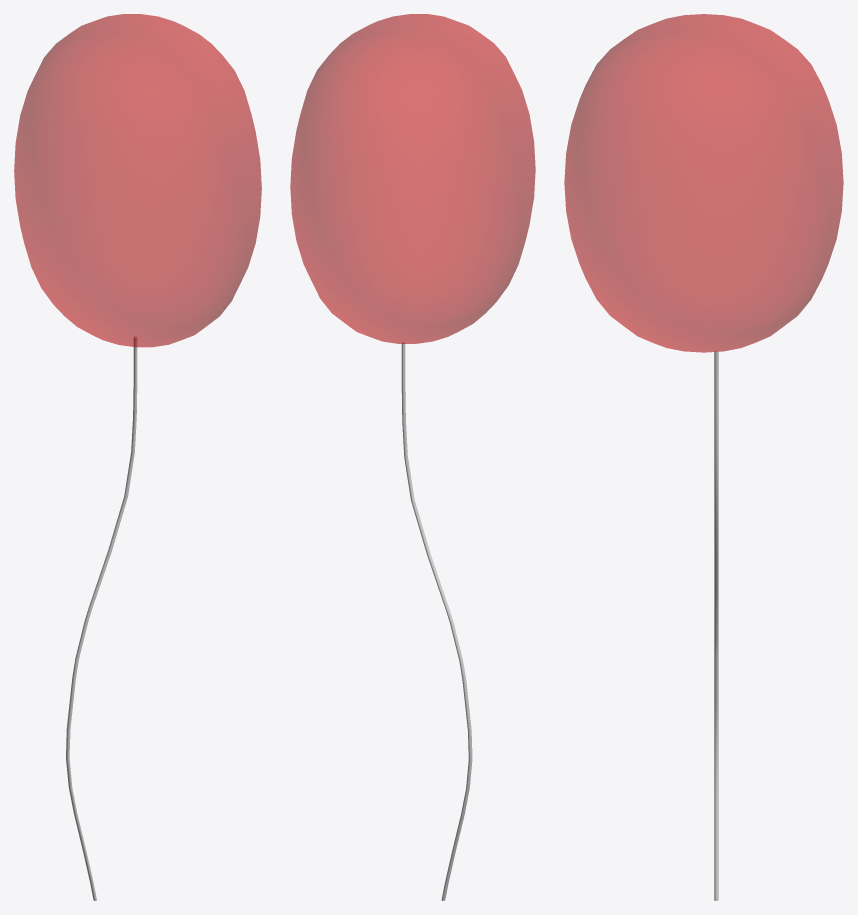
The model's file is oneredballoon.fbx.
3 views of the same model, side by side, from view 1: azimuth 30°, elevation 25°; view 2: azimuth 150°, elevation 25°; view 3: azimuth 270°, elevation 25° (orthographic). The views are drawn at different scales.
Parts seen in each view (by area): view 1: polySurface4; view 2: polySurface4; view 3: polySurface4.
Boxes of the visible parts, <box> form: polySurface4: <box>14,14,261,900</box>; polySurface4: <box>290,14,535,900</box>; polySurface4: <box>564,14,843,900</box>.
Size of the model in its own units: 1.53 by 6.13 by 1.74.
